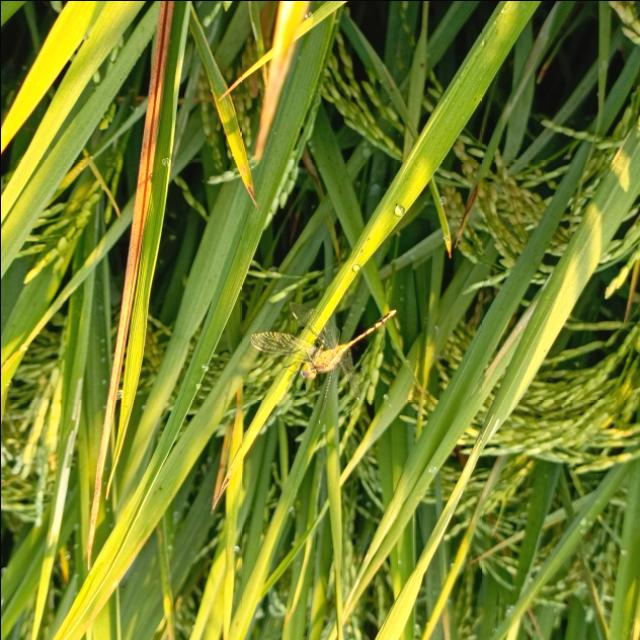Bacterial leaf blight: (498, 0, 567, 127), (45, 373, 88, 548)
Brown spot: (84, 0, 174, 572), (254, 11, 308, 160), (239, 172, 264, 215)
